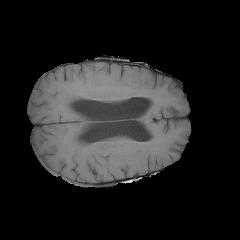glioma: (68, 79, 154, 99)
